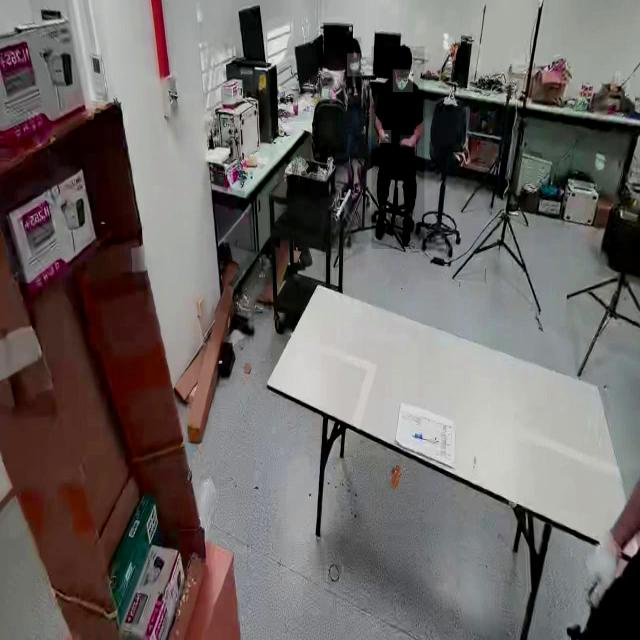face_mask: (392, 70, 413, 94), (346, 54, 361, 78)
hand_noglove: (399, 135, 416, 149), (378, 130, 392, 144)
head_nohelmet: (395, 42, 413, 68), (346, 38, 362, 54)
person: (371, 46, 425, 250), (331, 36, 371, 210)
shoes: (374, 203, 391, 244), (399, 208, 415, 249)
